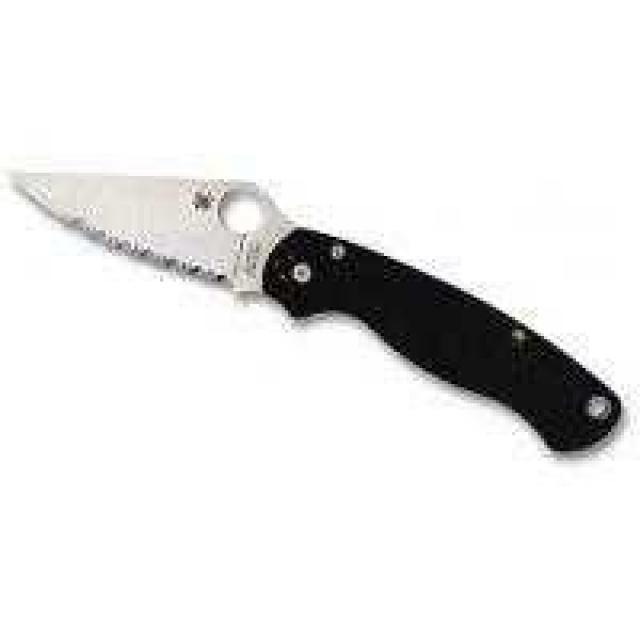knife: (0, 146, 623, 473)
